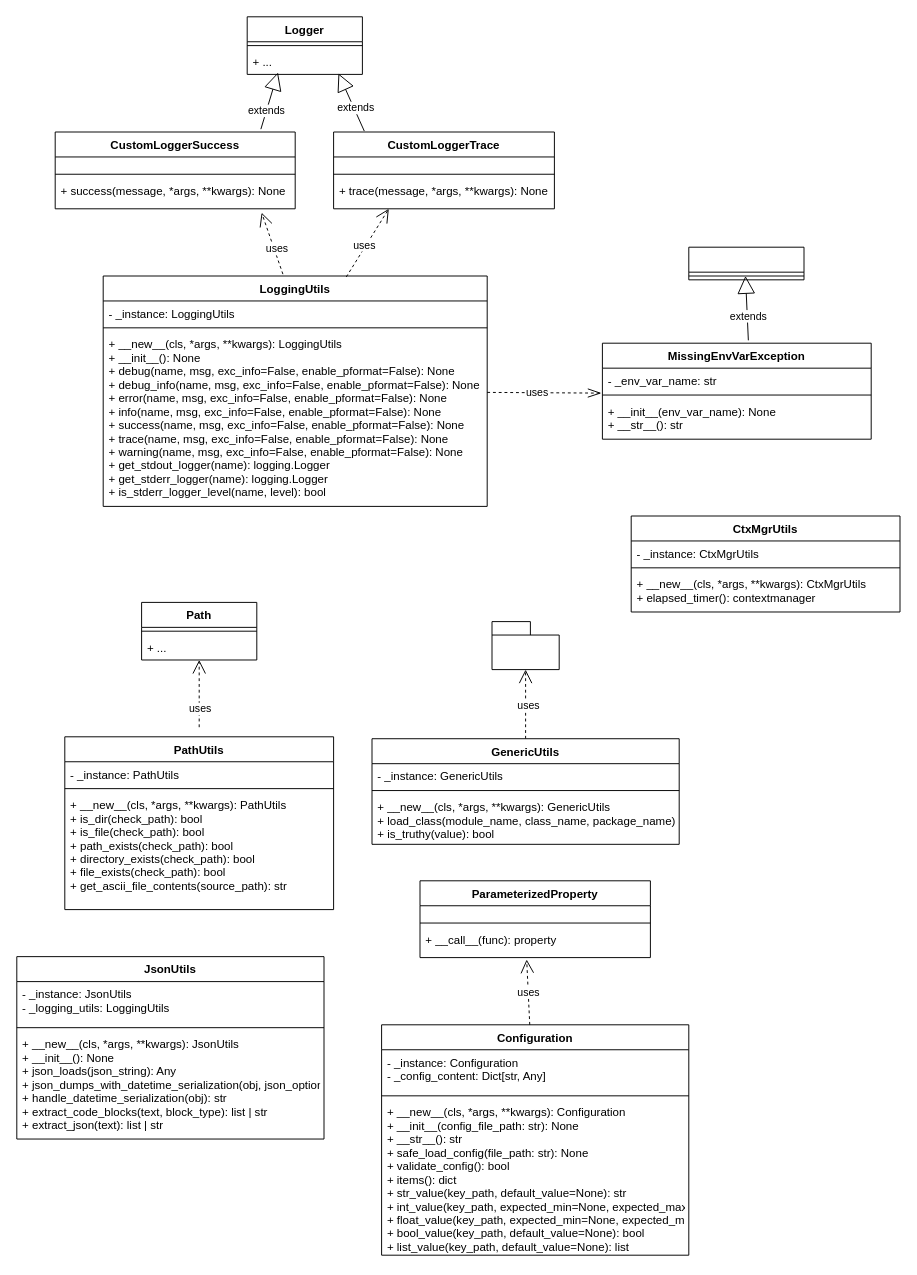
Some shapes in this 917 by 1275 pixel diagram are drawn without their labels. The shapes that lost their labels are listed below. From the top down, each one's centre as x and y in pixels, then its label:
(x=746, y=263): Exception
(x=525, y=645): importlib
